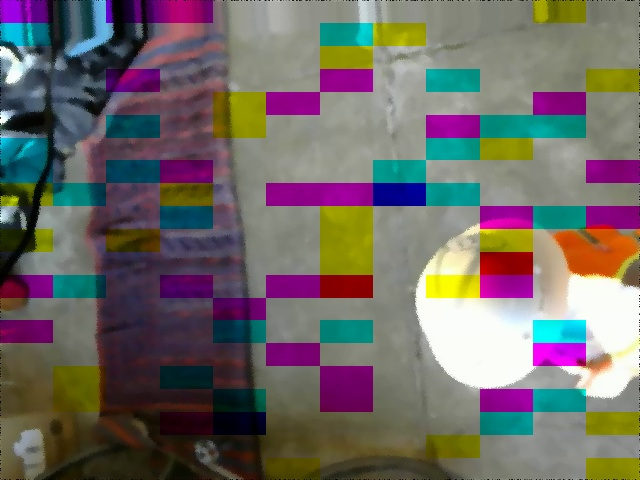eight: (440, 229, 510, 258)
